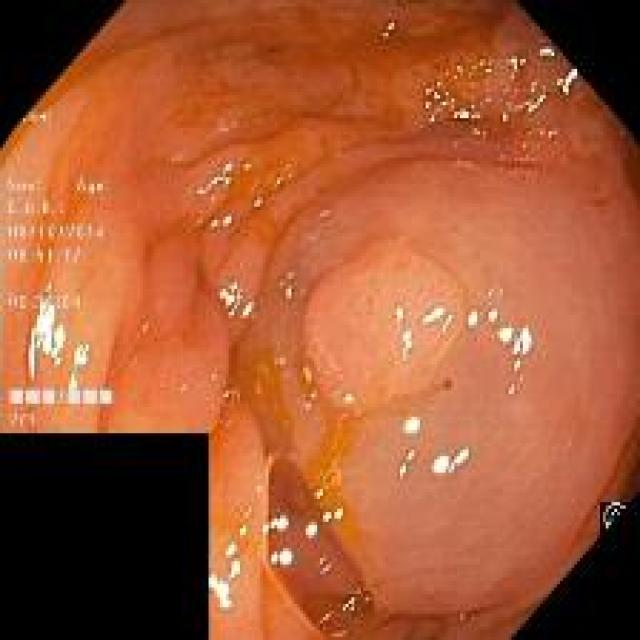Polyps: (304, 243, 462, 410)
